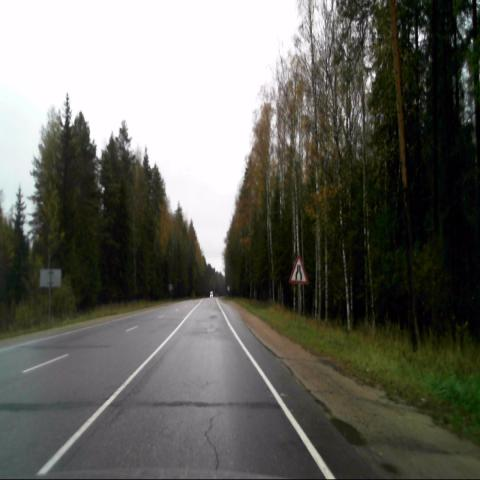1_20: (289, 254, 309, 285)
